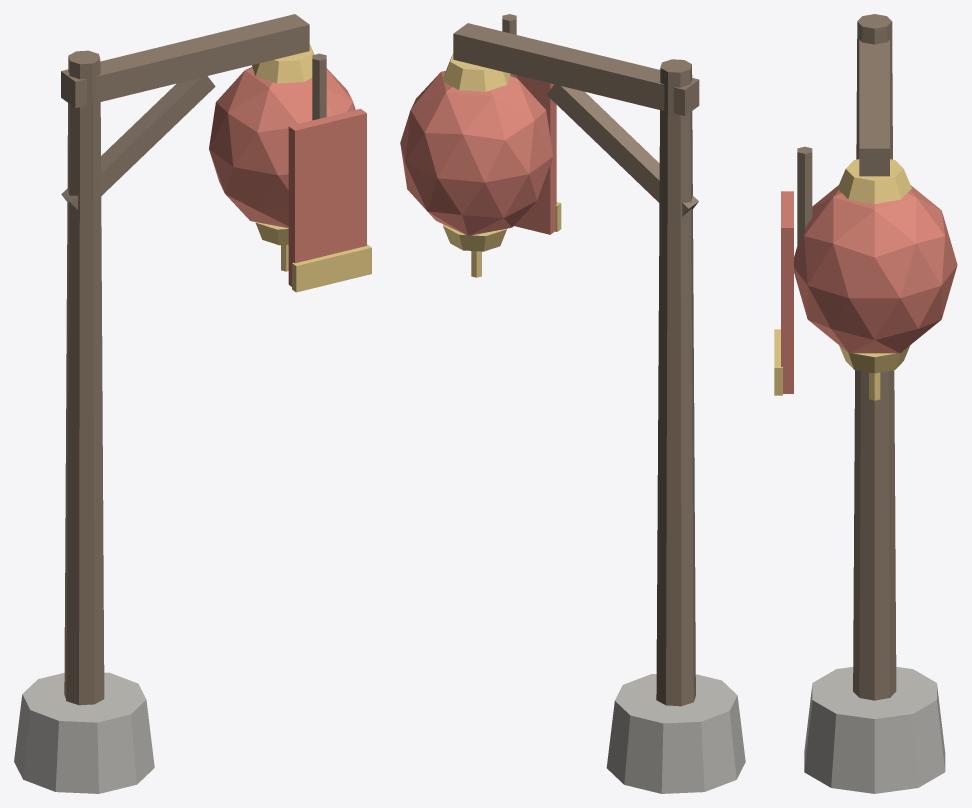
Rendered from SM_Prop_Lantern.fbx.
3 renders of one model, left to right at view 1: azimuth 30°, elevation 25°; view 2: azimuth 150°, elevation 25°; view 3: azimuth 270°, elevation 25°, orthographic. The views are drawn at different scales.
Visible parts, largest first — view 1: Lantern; view 2: Lantern; view 3: Lantern.
Boxes of the visible parts, x1,y1,x2,y2 form: Lantern: (14,14,371,793); Lantern: (400,14,745,793); Lantern: (774,14,957,793).
Bounding box in the file's own units: 0.9107 × 1.88 × 0.42.
